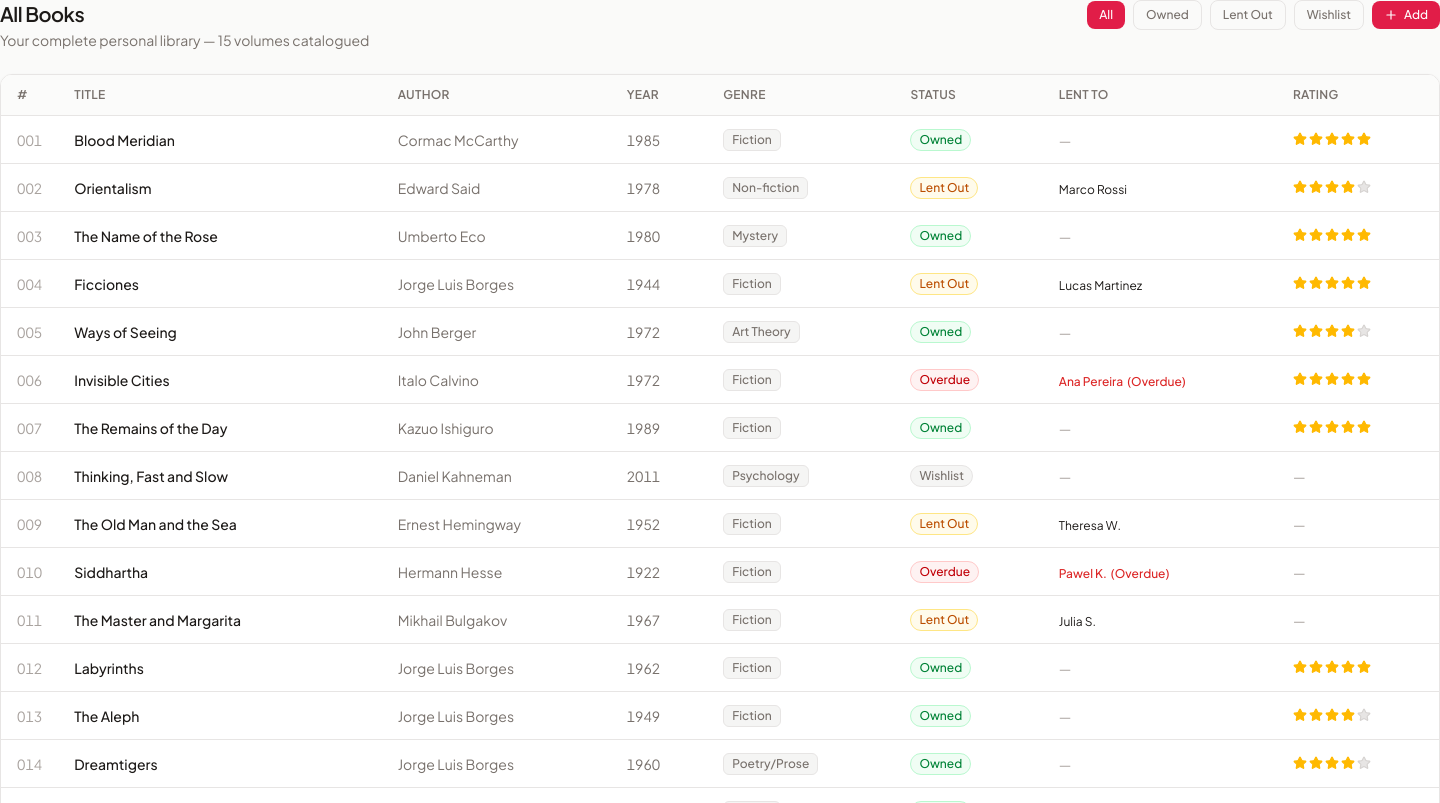
Test: BooksPage component › filters to show only Owned books
Click the button "Owned". click: [1167, 15]
box: x1=1133 y1=0 x2=1202 y2=30
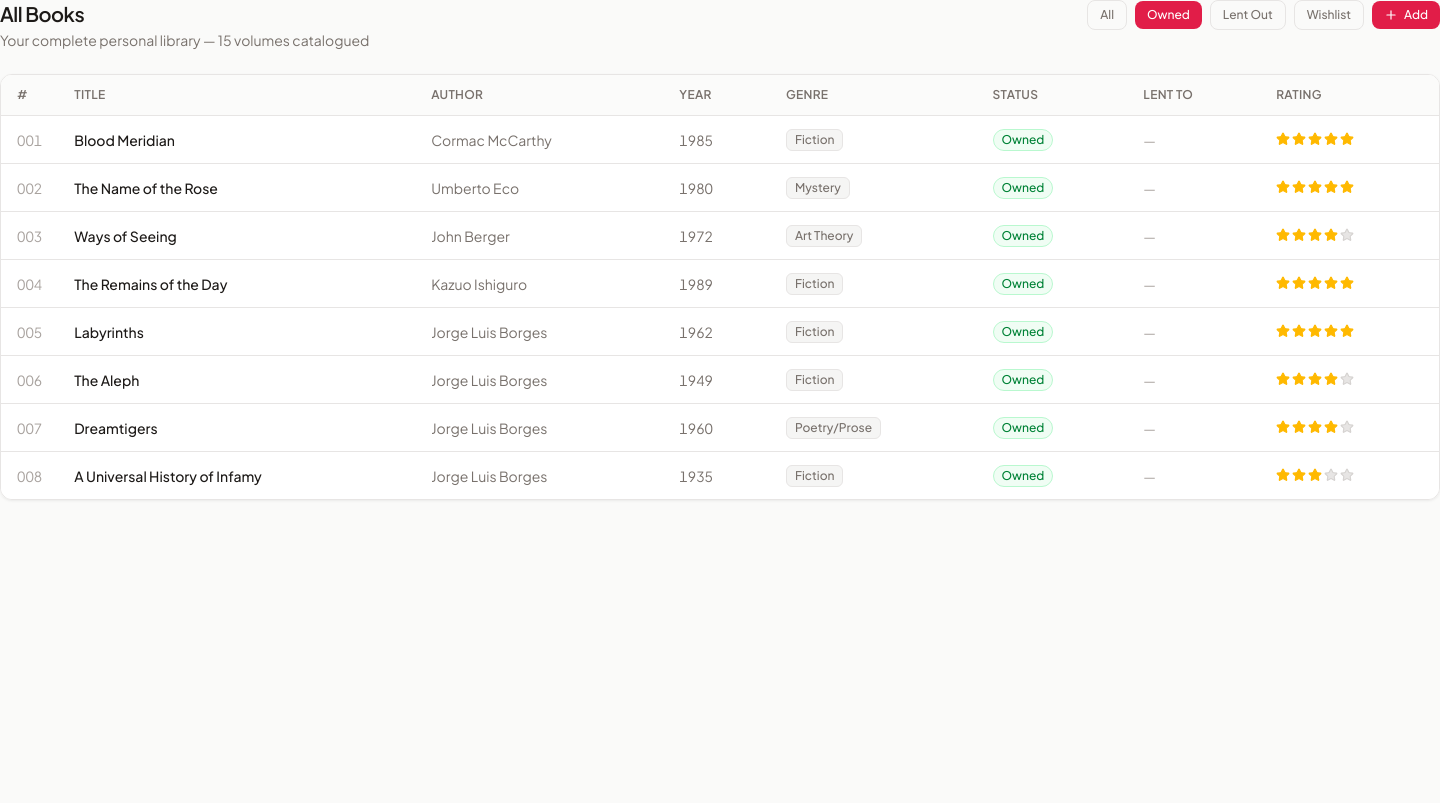
Expected: the text "Blood Meridian" is shown, x1=74 y1=130 x2=175 y2=148
Expected: the text "Ficciones" is gone
